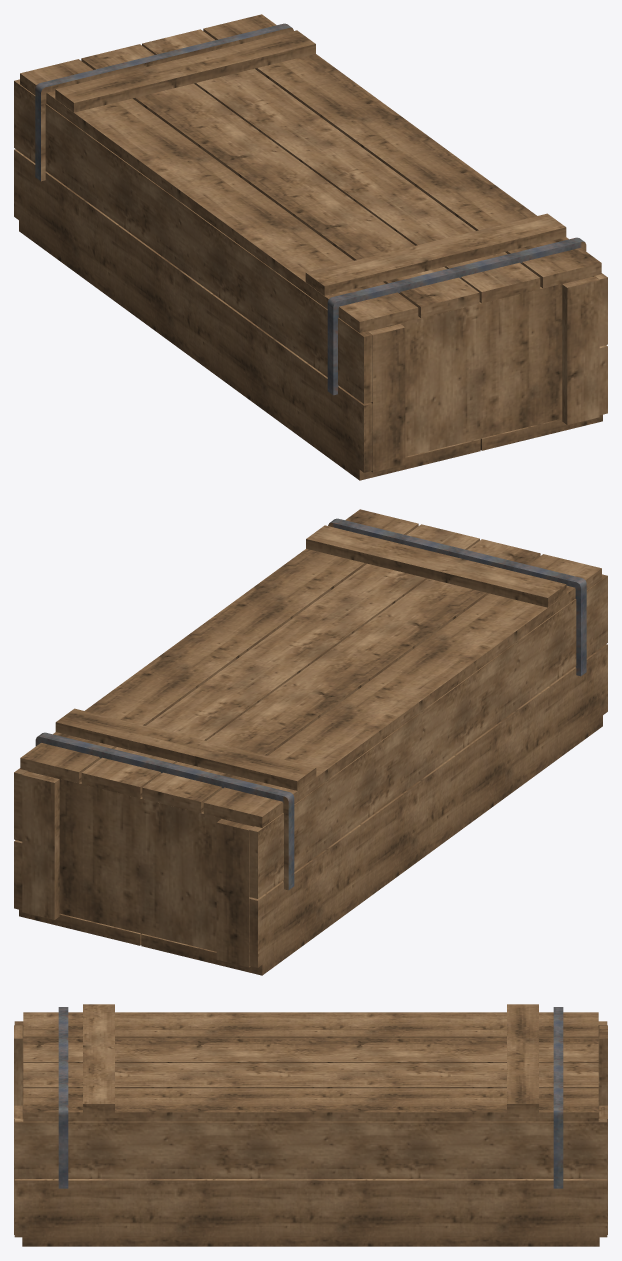
Rendered from simple_long_crate.glb.
The picture shows the model from 3 angles, top to bottom: view 1: azimuth 30°, elevation 25°; view 2: azimuth 150°, elevation 25°; view 3: azimuth 270°, elevation 25°; orthographic projection. The views are drawn at different scales.
Visible parts, largest first — view 1: Object_2; view 2: Object_2; view 3: Object_2.
Part boxes in pixels (bbox=[...]): Object_2: bbox=[14, 14, 607, 480]; Object_2: bbox=[14, 509, 607, 975]; Object_2: bbox=[14, 1004, 607, 1246].
Size of the model in its own units: 3.09 by 1.96 by 7.41.
Materials: 1 (1 with a texture image).
